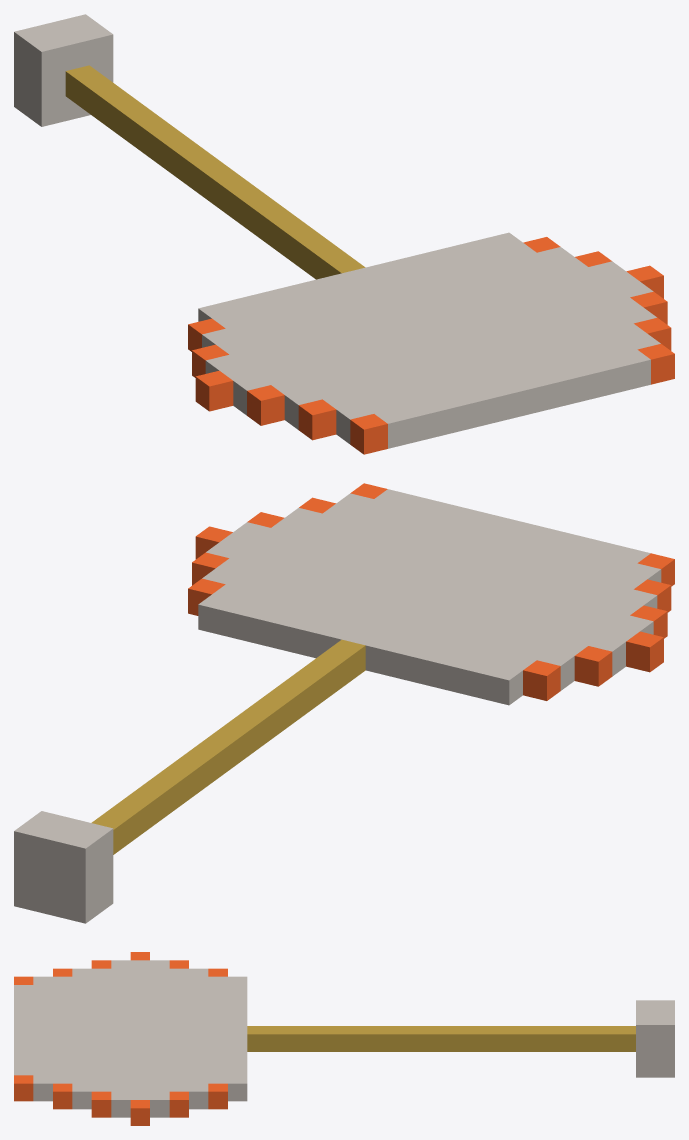
File: vox_axe_star.glb
3 renders of one model, top to bottom at view 1: azimuth 30°, elevation 25°; view 2: azimuth 150°, elevation 25°; view 3: azimuth 270°, elevation 25°, orthographic. The views are drawn at different scales.
Visible parts, largest first — view 1: vox_axe_star; view 2: vox_axe_star; view 3: vox_axe_star.
Part boxes in pixels (left/top/right/bottom): vox_axe_star: left=14, top=14, right=674, bottom=454; vox_axe_star: left=14, top=483, right=674, bottom=923; vox_axe_star: left=14, top=952, right=674, bottom=1125.
Size of the model in its own units: 0.38 by 0.06 by 0.68.
